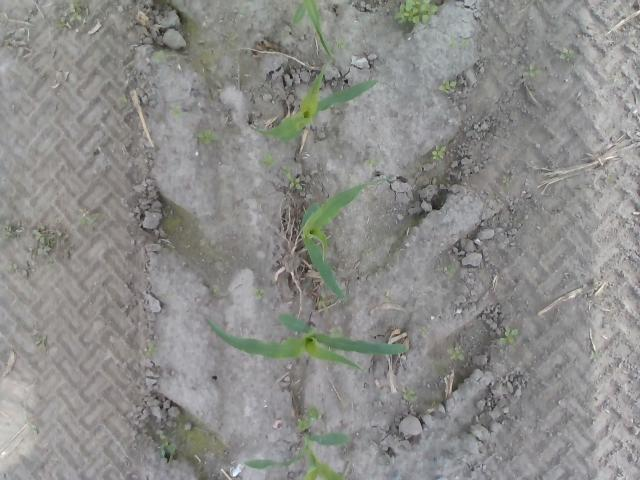Maize: (199, 308, 408, 374), (248, 65, 381, 144), (300, 180, 370, 304), (241, 427, 353, 480), (292, 0, 336, 58)
Weeds: (394, 0, 441, 27), (32, 224, 56, 256), (56, 0, 82, 29), (298, 405, 322, 431), (282, 163, 303, 191), (196, 128, 223, 143), (498, 328, 519, 346), (449, 34, 471, 50), (256, 150, 273, 169), (160, 439, 177, 457), (431, 142, 446, 162), (559, 48, 577, 64), (439, 78, 457, 94), (526, 63, 544, 78), (142, 342, 157, 358), (79, 212, 95, 226), (448, 348, 465, 361), (168, 102, 180, 118), (501, 173, 514, 187), (403, 389, 418, 401), (328, 327, 343, 338), (154, 49, 166, 62), (418, 326, 430, 337), (254, 288, 264, 301), (336, 40, 348, 50), (362, 247, 373, 257), (364, 158, 374, 167), (5, 224, 12, 236), (120, 95, 129, 104), (448, 264, 456, 272), (31, 425, 37, 434)
